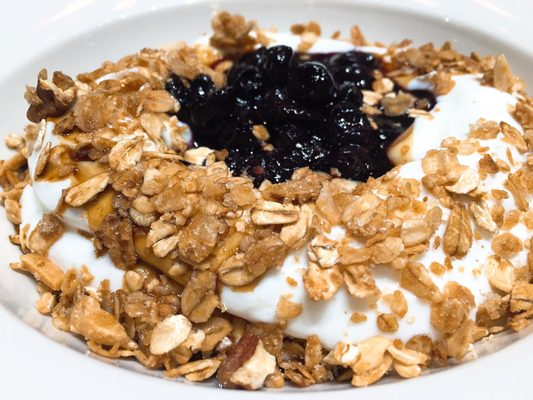sushi: (2, 3, 533, 394)
